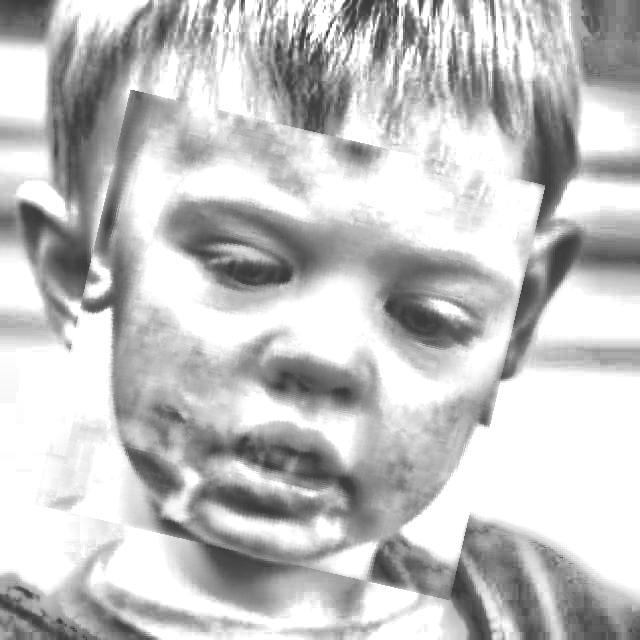sad: (56, 111, 524, 579)
